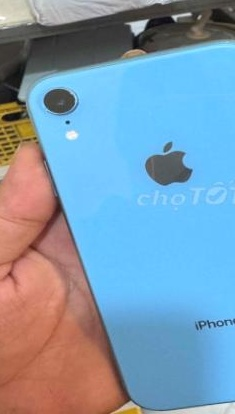scratch: (55, 75, 87, 106), (208, 27, 235, 54)
